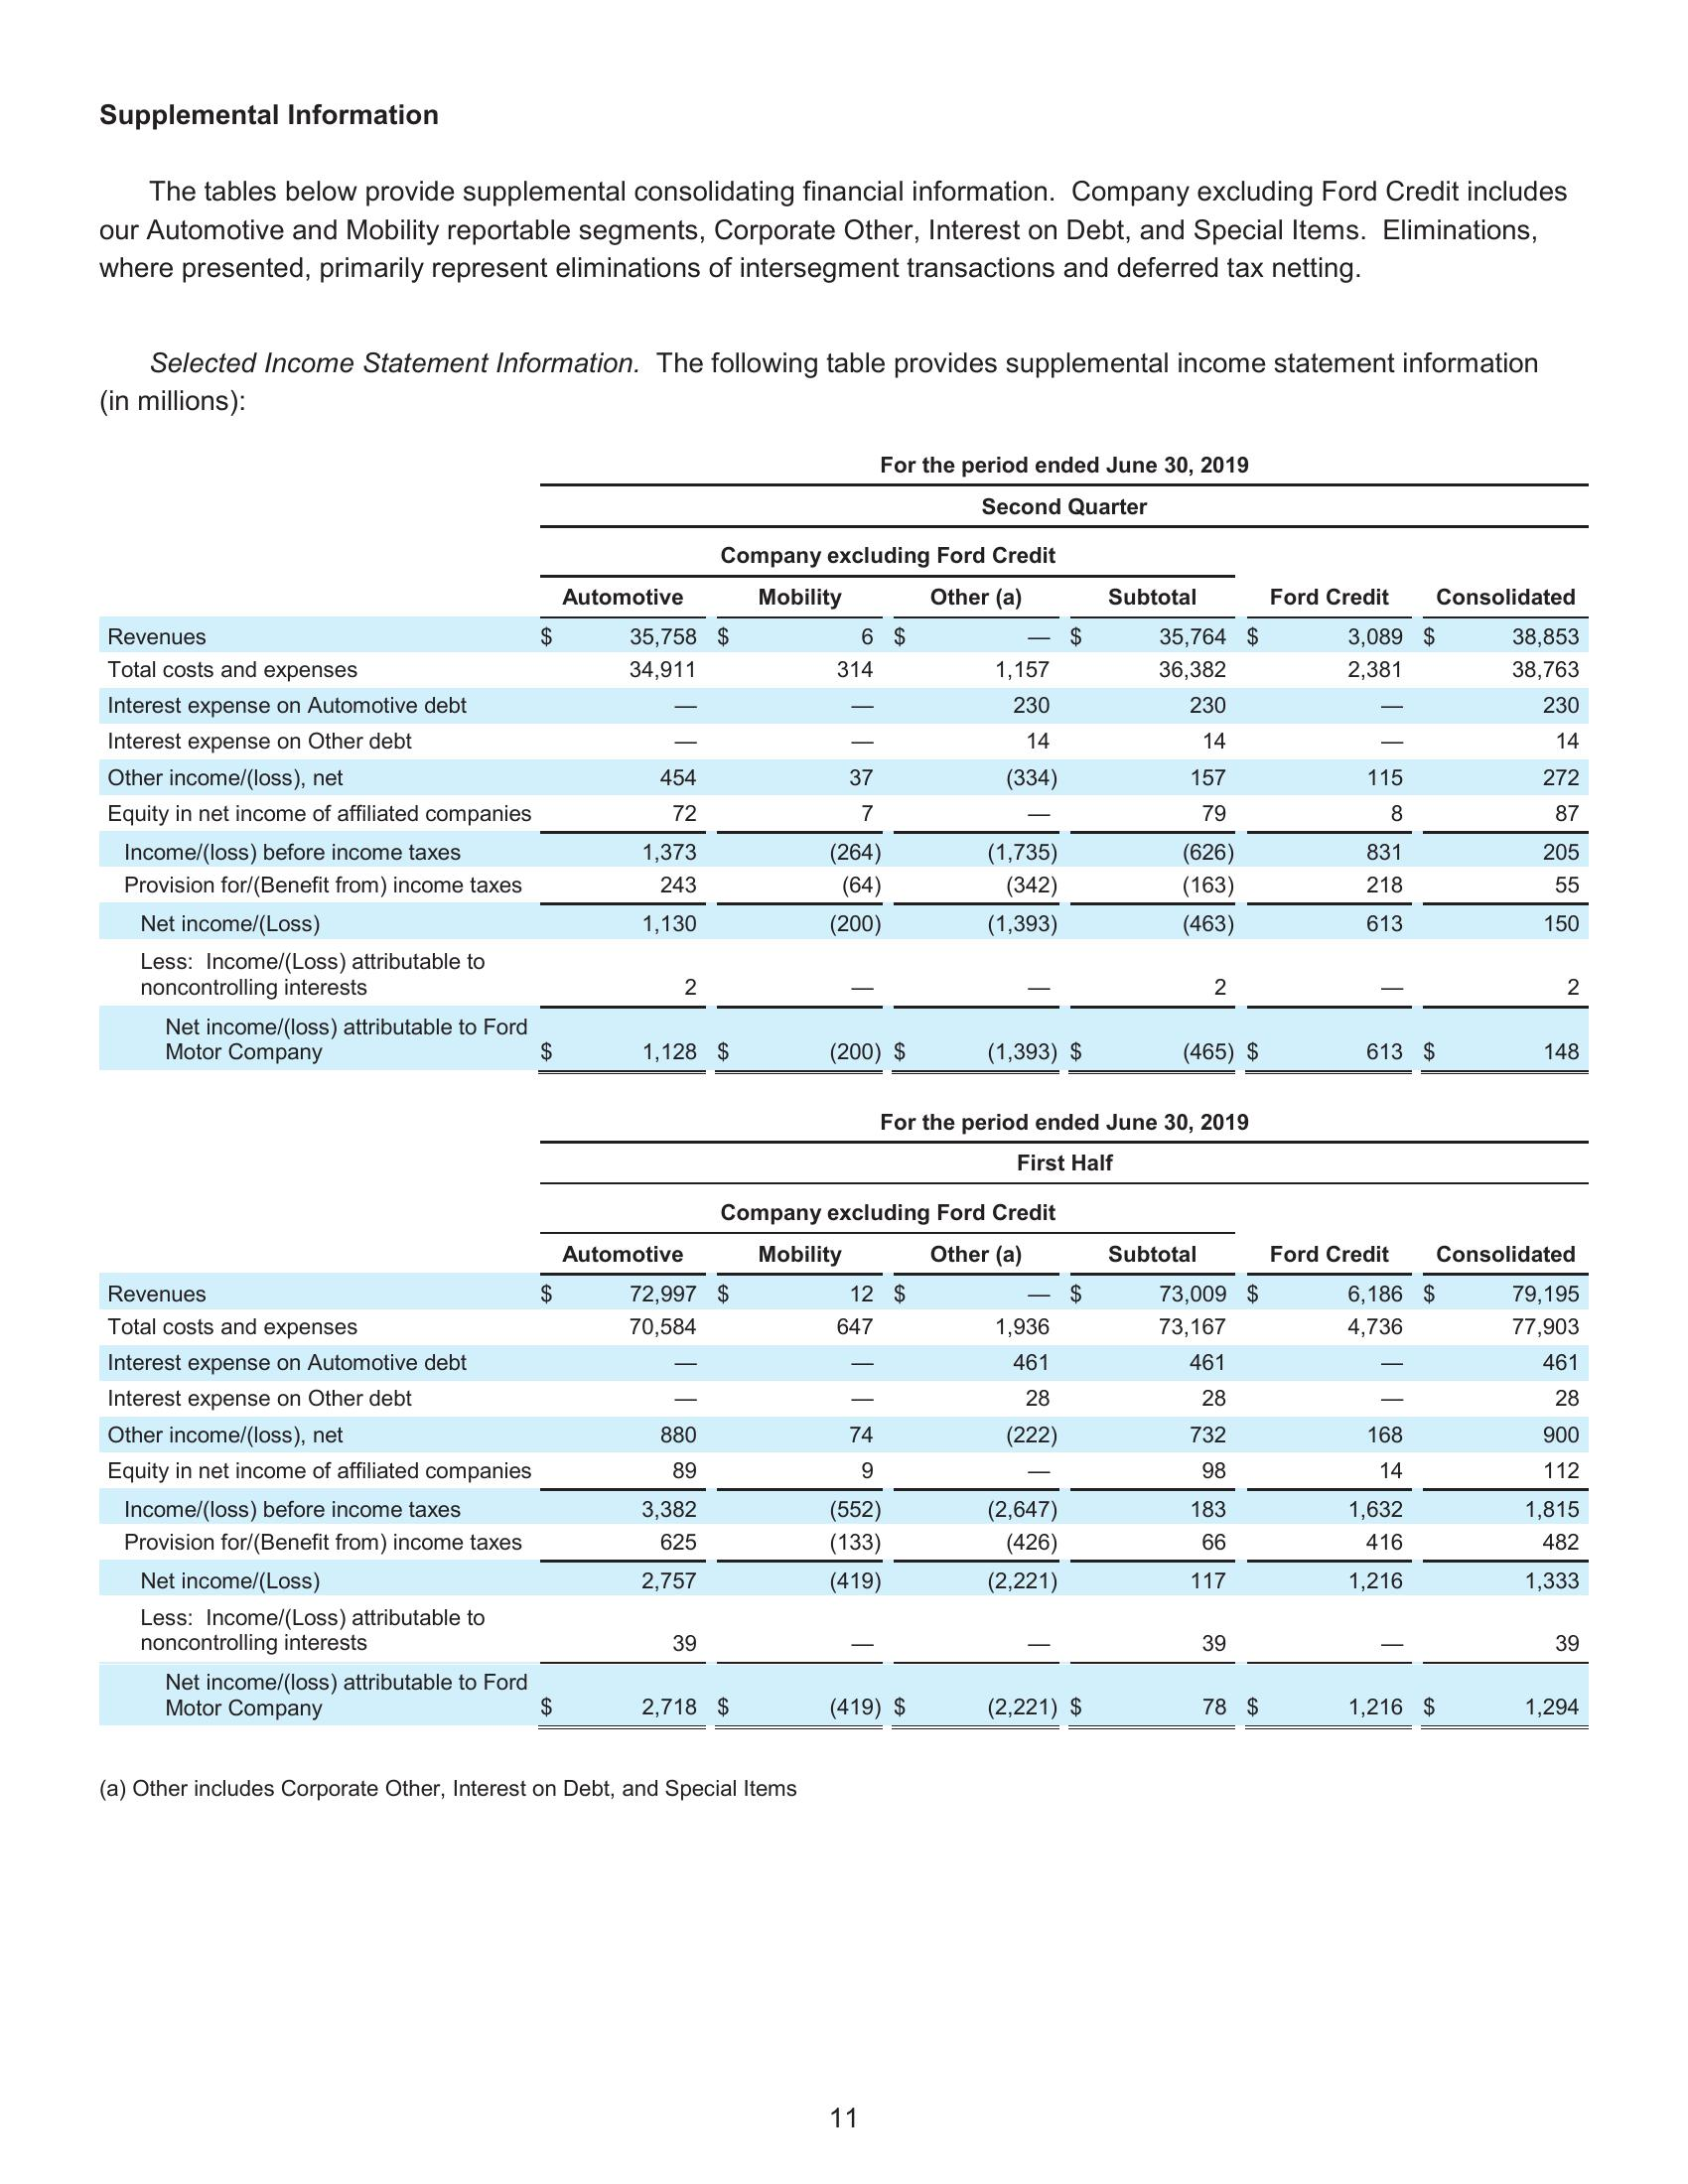table: (92, 1103, 1601, 1739), (96, 450, 1596, 1078)
